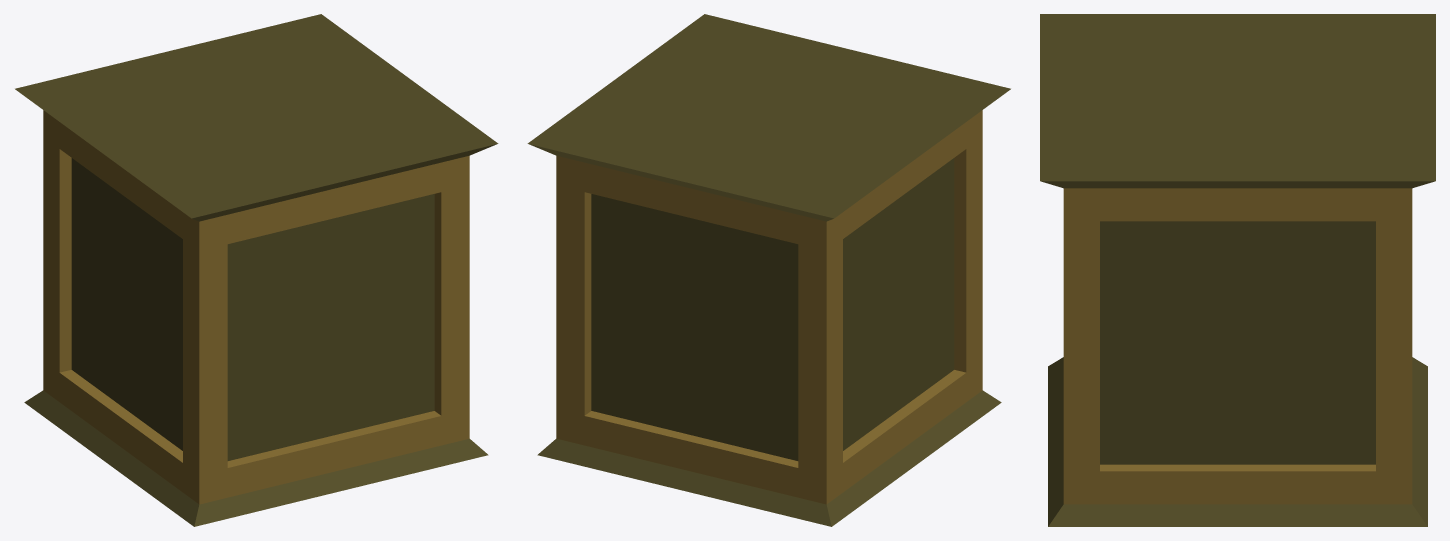
The model's file is cajaparamancha3.fbx.
The picture shows the model from 3 angles, left to right: view 1: azimuth 30°, elevation 25°; view 2: azimuth 150°, elevation 25°; view 3: azimuth 270°, elevation 25°; orthographic projection. The views are drawn at different scales.
Visible parts, largest first — view 1: Caja; view 2: Caja; view 3: Caja.
Boxes of the visible parts, <box> form: Caja: <box>15,14,498,526</box>; Caja: <box>527,14,1010,526</box>; Caja: <box>1040,14,1435,526</box>.
Bounding box in the file's own units: 227 × 221 × 227.
Materials: 1 (1 with a texture image).
